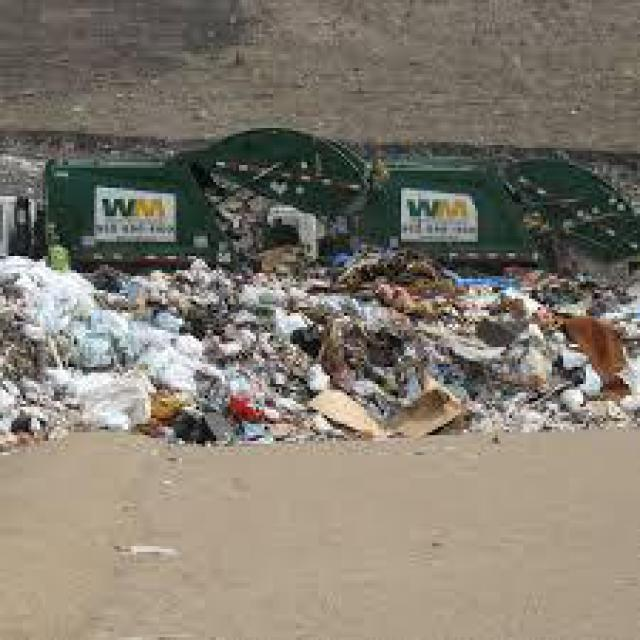garbage: (0, 256, 637, 438)
